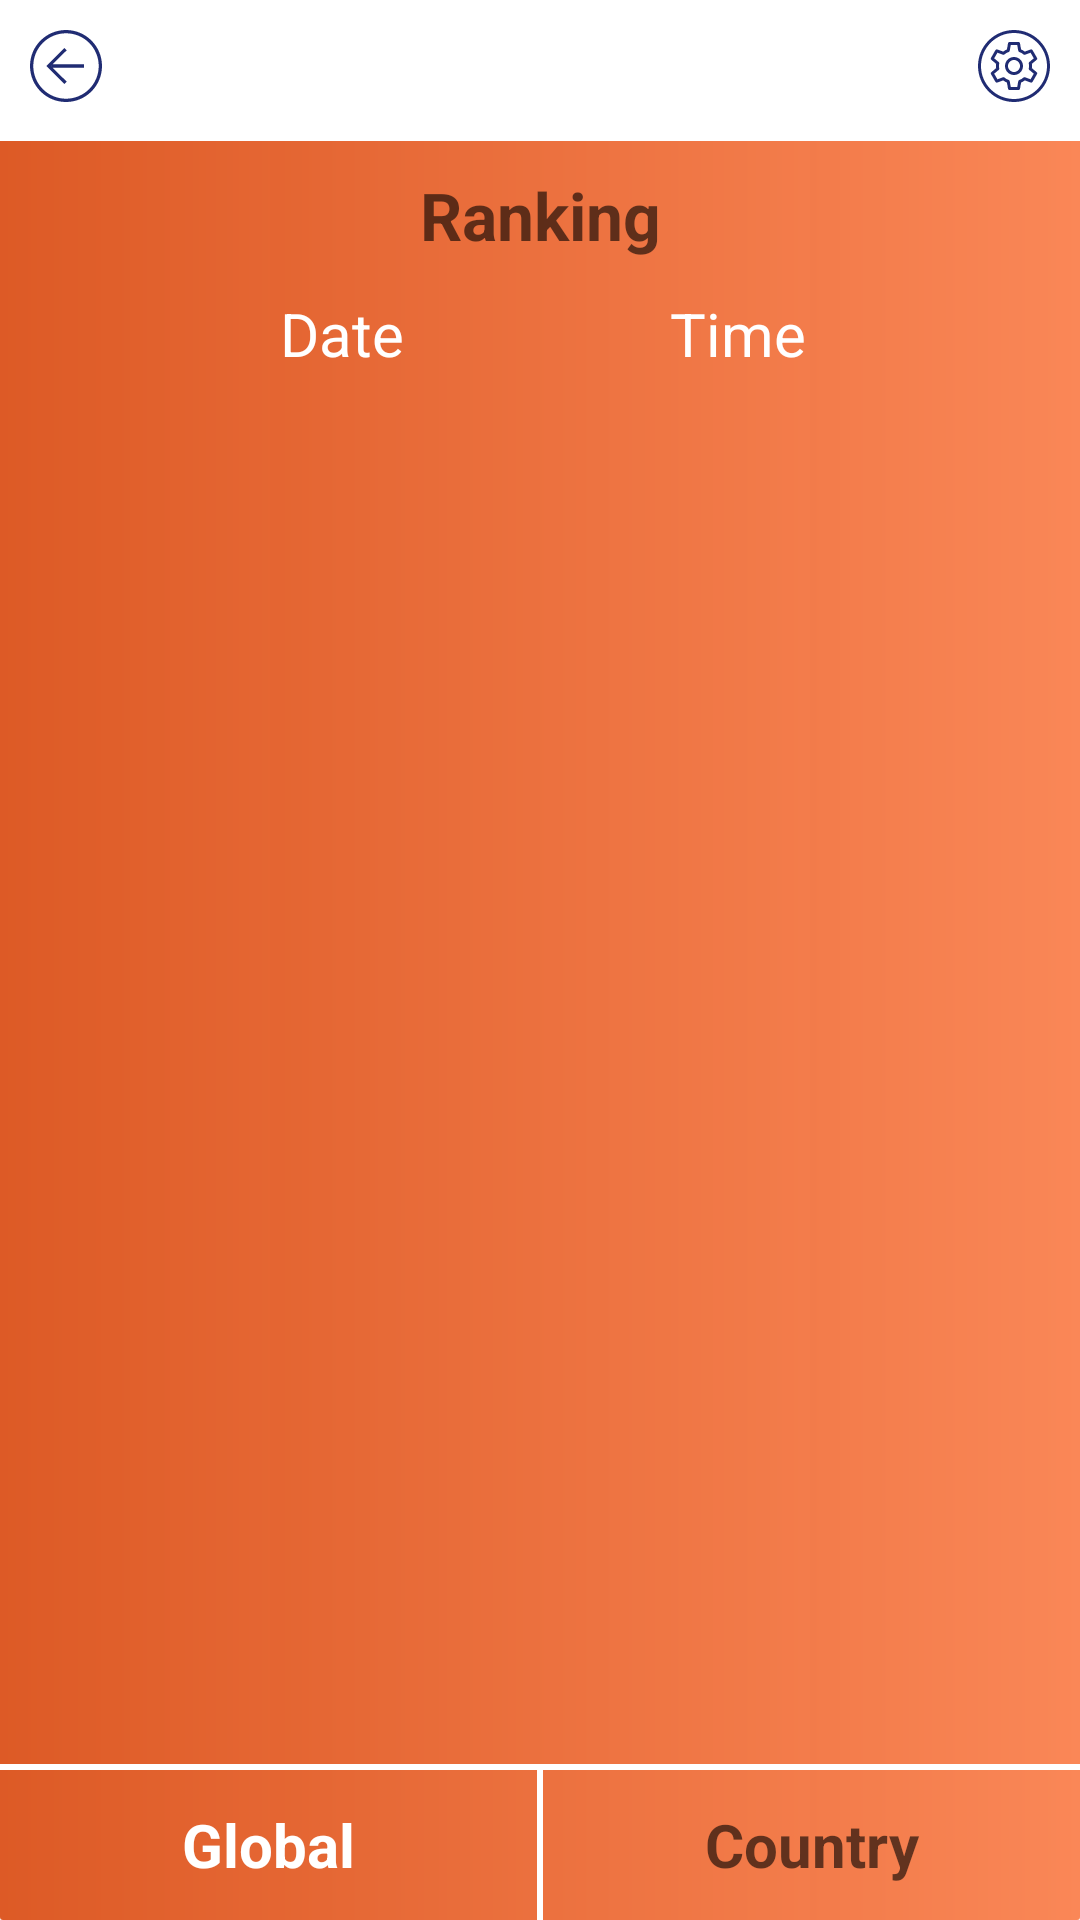

Icons on this 1080 × 1920 Android screen, each with its box as (x1, y1, x2, y2):
profile backpress: (30, 30, 102, 102)
profile settings: (978, 30, 1050, 102)
